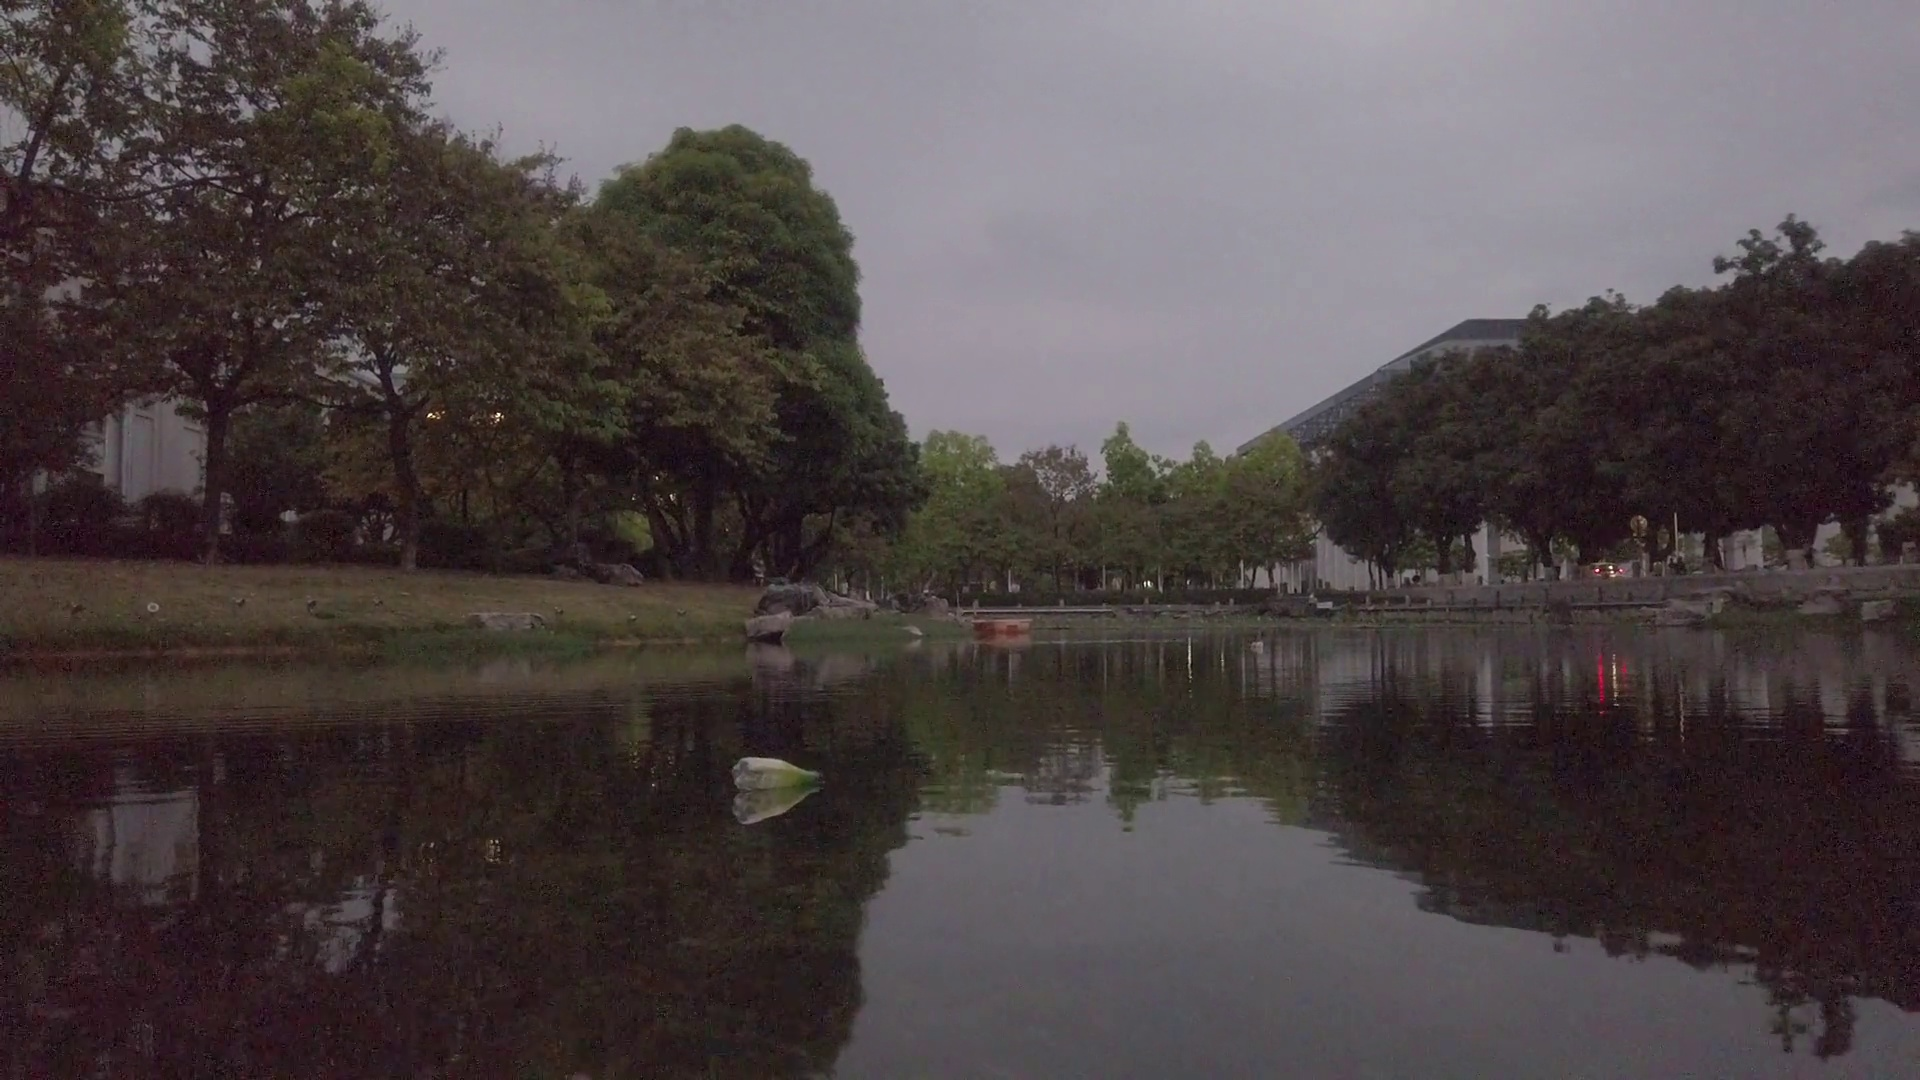bottle: (728, 756, 829, 794), (1245, 636, 1265, 653)
